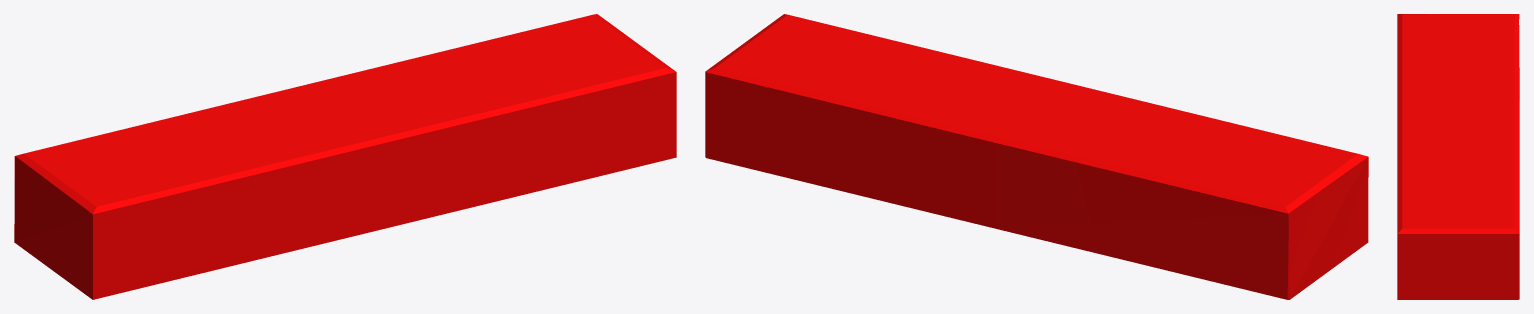
File: Fp301_Ps_301_Shelf_3_PsDesk_301_5_15.obj
The picture shows the model from 3 angles, left to right: view 1: azimuth 30°, elevation 25°; view 2: azimuth 150°, elevation 25°; view 3: azimuth 270°, elevation 25°; orthographic projection. The views are drawn at different scales.
Visible parts, largest first — view 1: PsDesk_301_5; view 2: PsDesk_301_5; view 3: PsDesk_301_5.
Boxes of the visible parts, x1=… form: PsDesk_301_5: x1=14, y1=14, x2=676, y2=299; PsDesk_301_5: x1=705, y1=14, x2=1368, y2=299; PsDesk_301_5: x1=1397, y1=14, x2=1519, y2=299.
Bounding box in the file's own units: 0.8568 × 0.125 × 0.2014.
